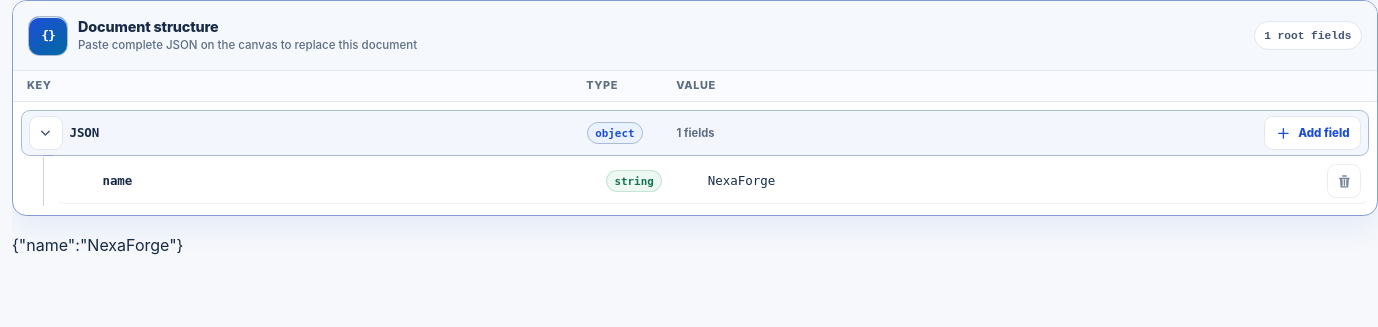
Test: JsonTreeEditor › adds a typed field through the inline composer
The image size is (1378, 327).
Click the button with aria-label "Add field to JSON": (1313, 133) [1264, 116, 1361, 150]
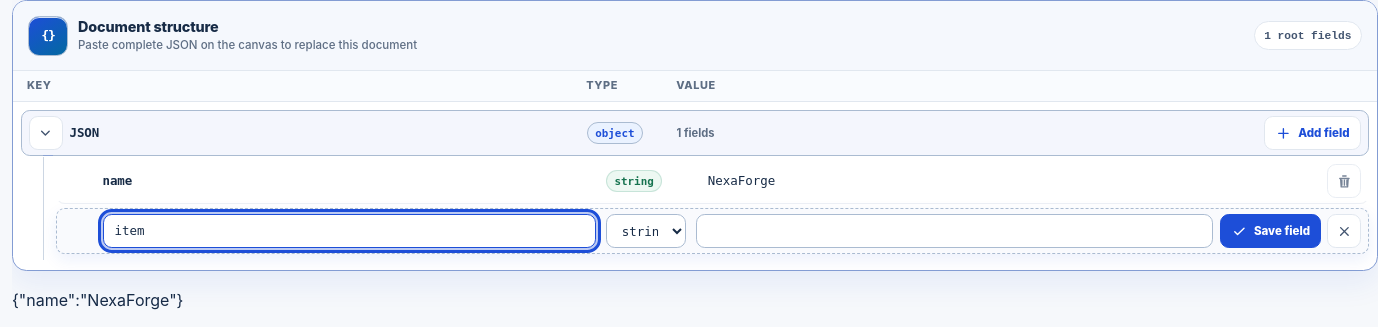
Replace the text in the field named "Field name" with "version": (349, 231) [103, 214, 596, 248]
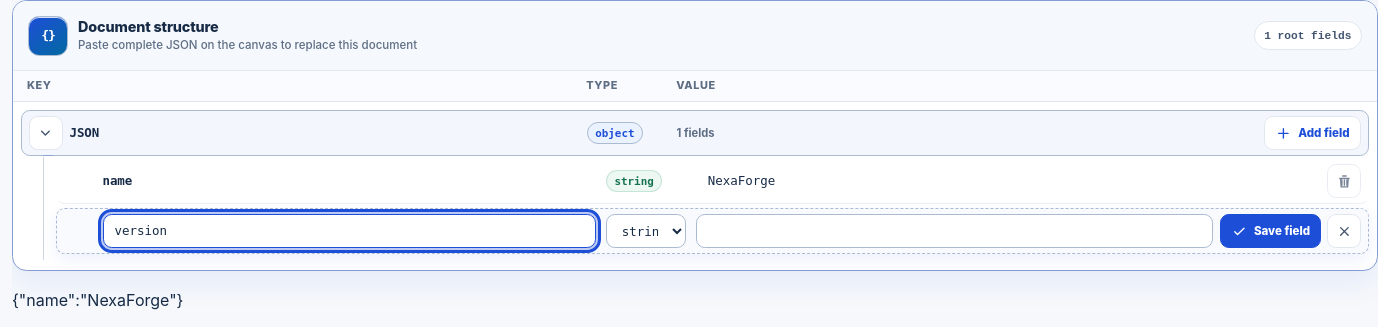
Select "number" in the dropdown named "Type for new field": (646, 231) [606, 214, 686, 248]
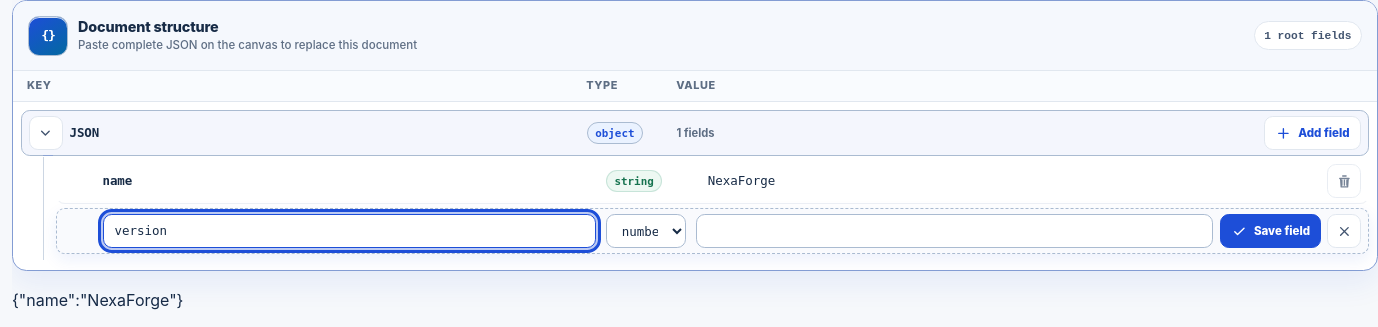
In the number field named "Value for new field": (954, 231) [696, 214, 1213, 248], type "2"
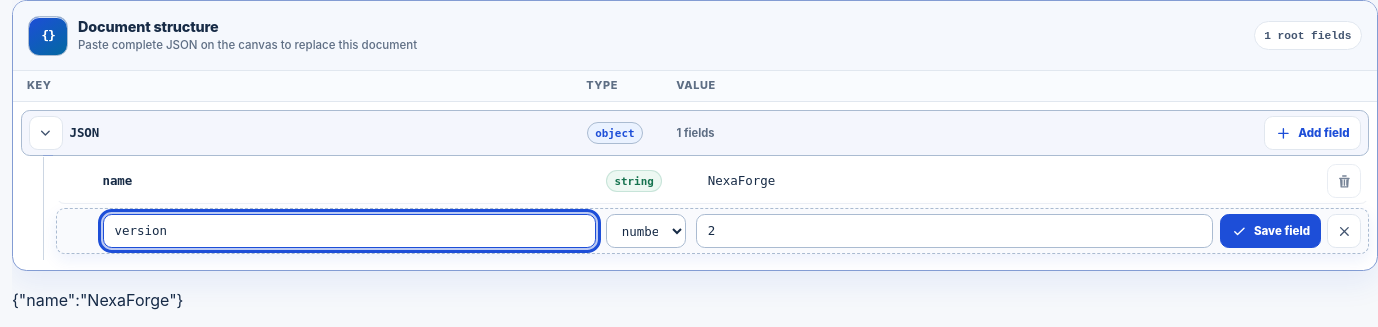
Click the button "Save field": (1271, 231) [1220, 214, 1321, 248]
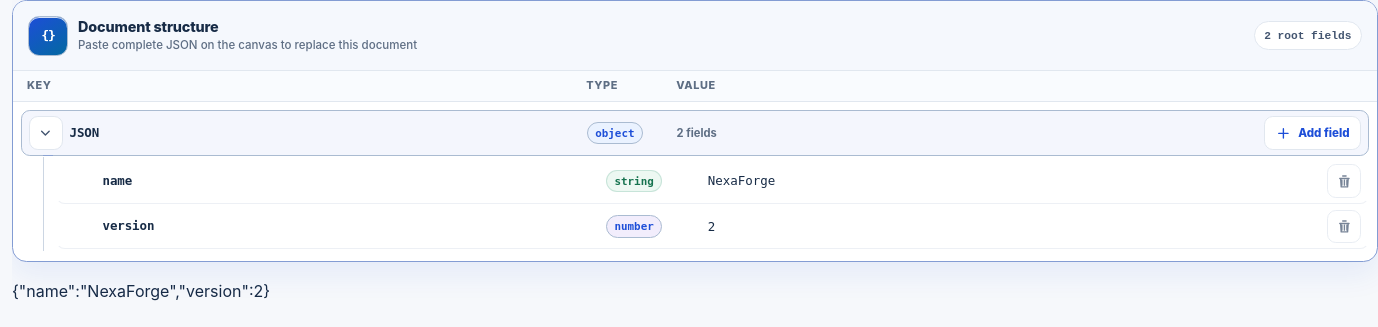
Check: the text with test id "json-value" reads "{\"name\":\"NexaForge\",\"version\":2}", box [12, 281, 270, 301]
Check: the number field named "Value for version" holds "2", box [696, 210, 1320, 244]
